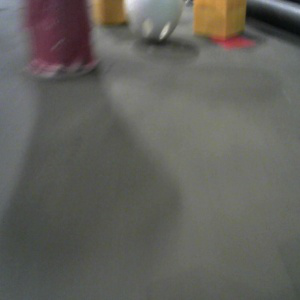middle: (25, 1, 101, 76)
